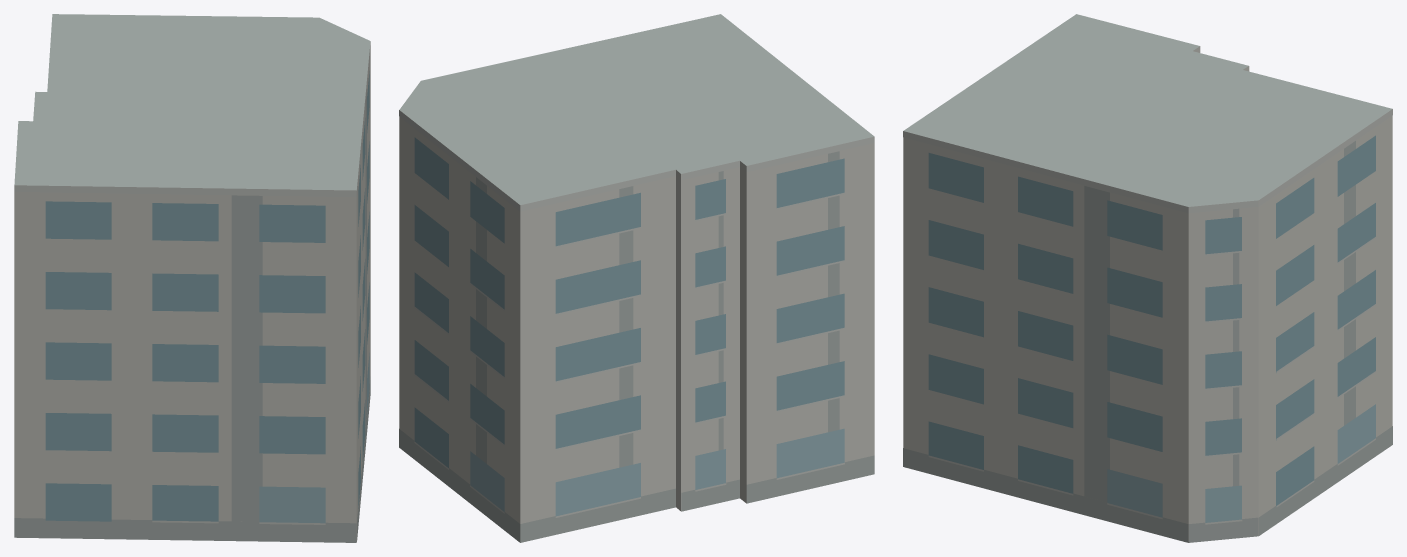
Rendered from survey-upis-32920259.glb.
3 renders of one model, left to right at view 1: azimuth 30°, elevation 25°; view 2: azimuth 150°, elevation 25°; view 3: azimuth 270°, elevation 25°, orthographic. The views are drawn at different scales.
Parts seen in each view (by area): view 1: survey-upis-32920259.tmp; view 2: survey-upis-32920259.tmp; view 3: survey-upis-32920259.tmp.
Boxes of the visible parts, left/top/right/bottom form: survey-upis-32920259.tmp: left=14, top=14, right=370, bottom=542; survey-upis-32920259.tmp: left=399, top=14, right=874, bottom=542; survey-upis-32920259.tmp: left=903, top=14, right=1392, bottom=542.
Bounding box in the file's own units: 15.51 × 12.58 × 16.63.
